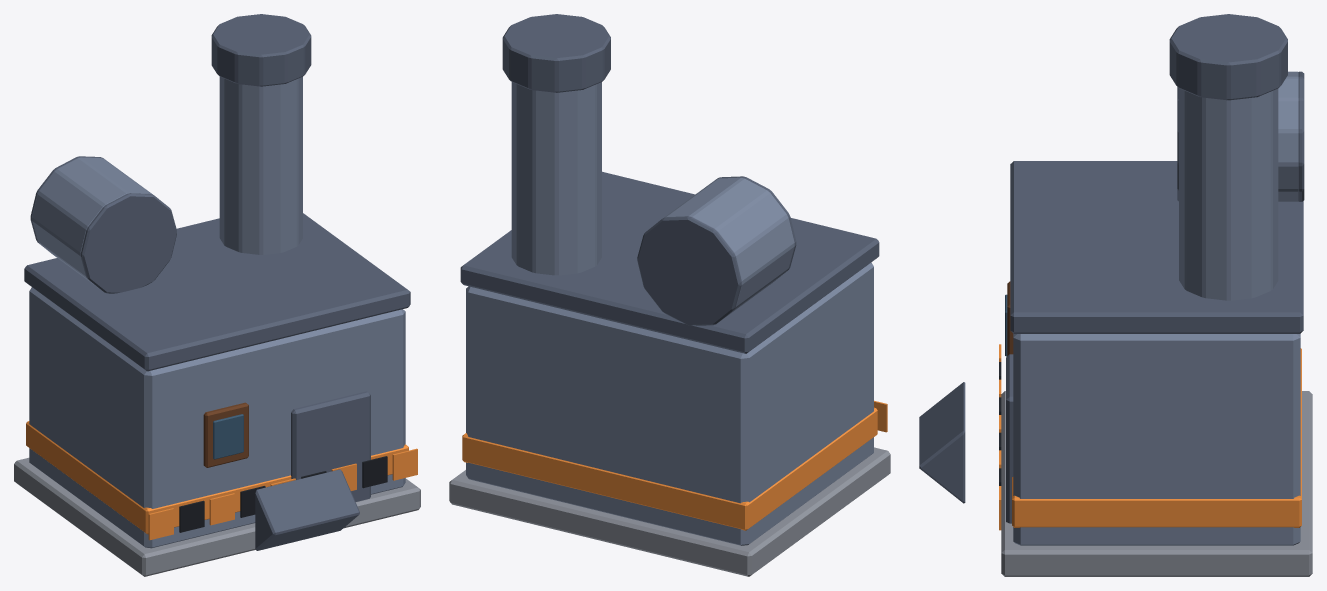
File: SM_Building_Refinery.fbx
The picture shows the model from 3 angles, left to right: view 1: azimuth 30°, elevation 25°; view 2: azimuth 150°, elevation 25°; view 3: azimuth 270°, elevation 25°; orthographic projection. The views are drawn at different scales.
Parts seen in each view (by area): view 1: SM_Building_Refinery; view 2: SM_Building_Refinery; view 3: SM_Building_Refinery.
Boxes of the visible parts, x1=… form: SM_Building_Refinery: x1=14, y1=14, x2=420, y2=576; SM_Building_Refinery: x1=449, y1=14, x2=890, y2=576; SM_Building_Refinery: x1=919, y1=14, x2=1312, y2=576.
Size of the model in its own units: 3.2 by 4.63 by 3.28.
